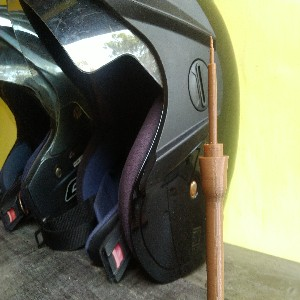solder: (196, 33, 230, 300)
